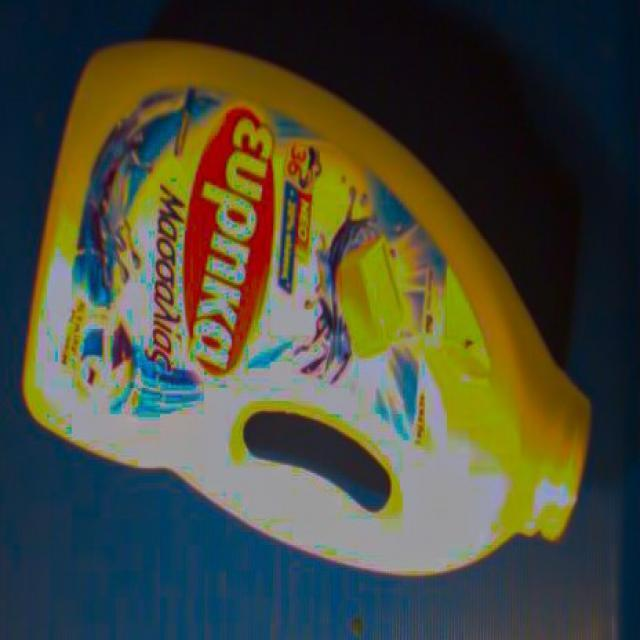HDPE Plastic: (16, 32, 600, 580)
